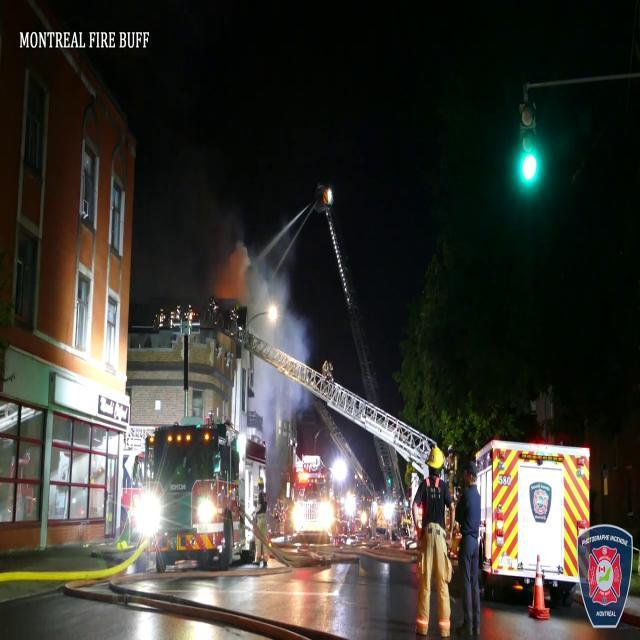Smoke: (222, 218, 310, 414)
